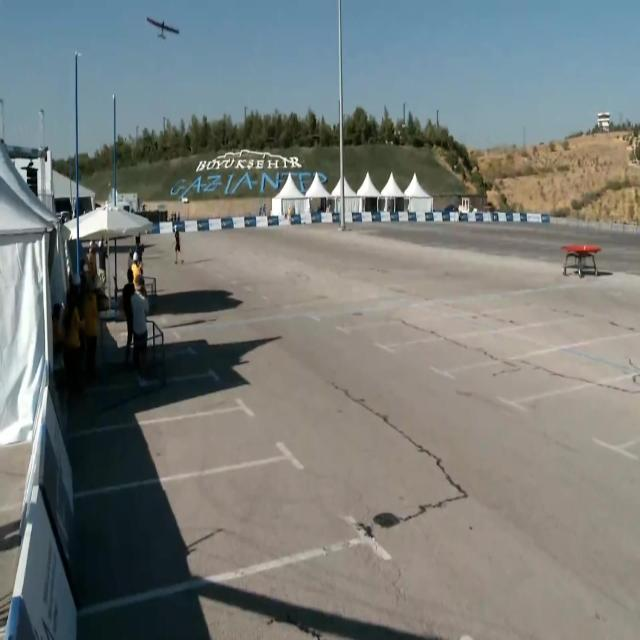iha: (146, 15, 180, 41)
